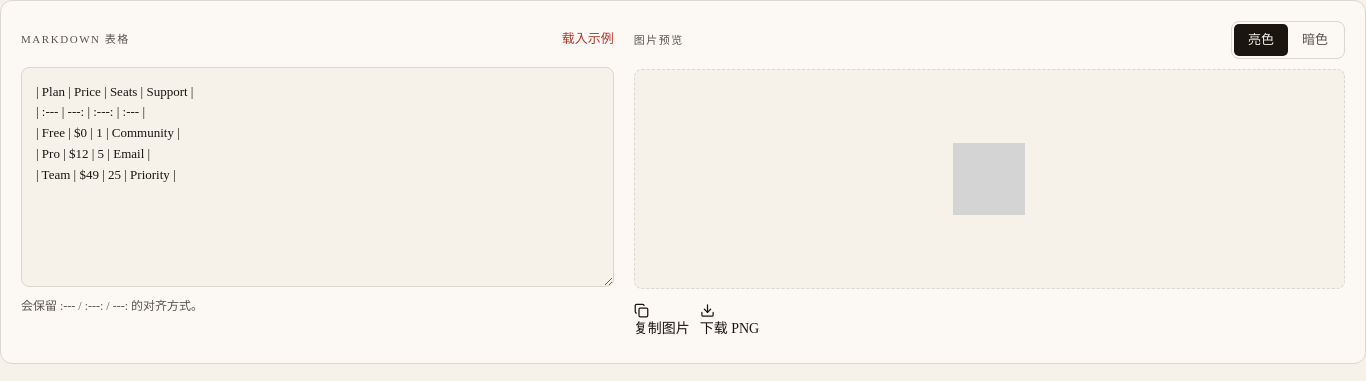
Test: TableImageTool › explains the expected format and disables actions for invalid input
The width and height of the screenshot is (1366, 381).
Replace the text in the text box labelled "Markdown 表格" with "not a table": (317, 176) [21,66,614,286]
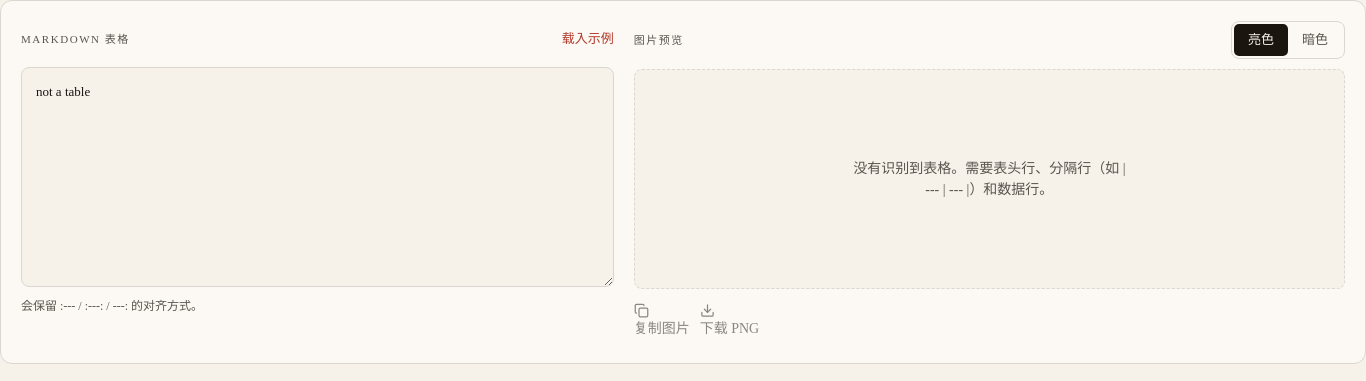
Expected: the message shows "没有识别到表格", [853,161,1126,197]
Expected: the button "复制图片" is disabled, [634,299,690,343]
Expected: the button "下载 PNG" is disabled, [700,299,759,343]
